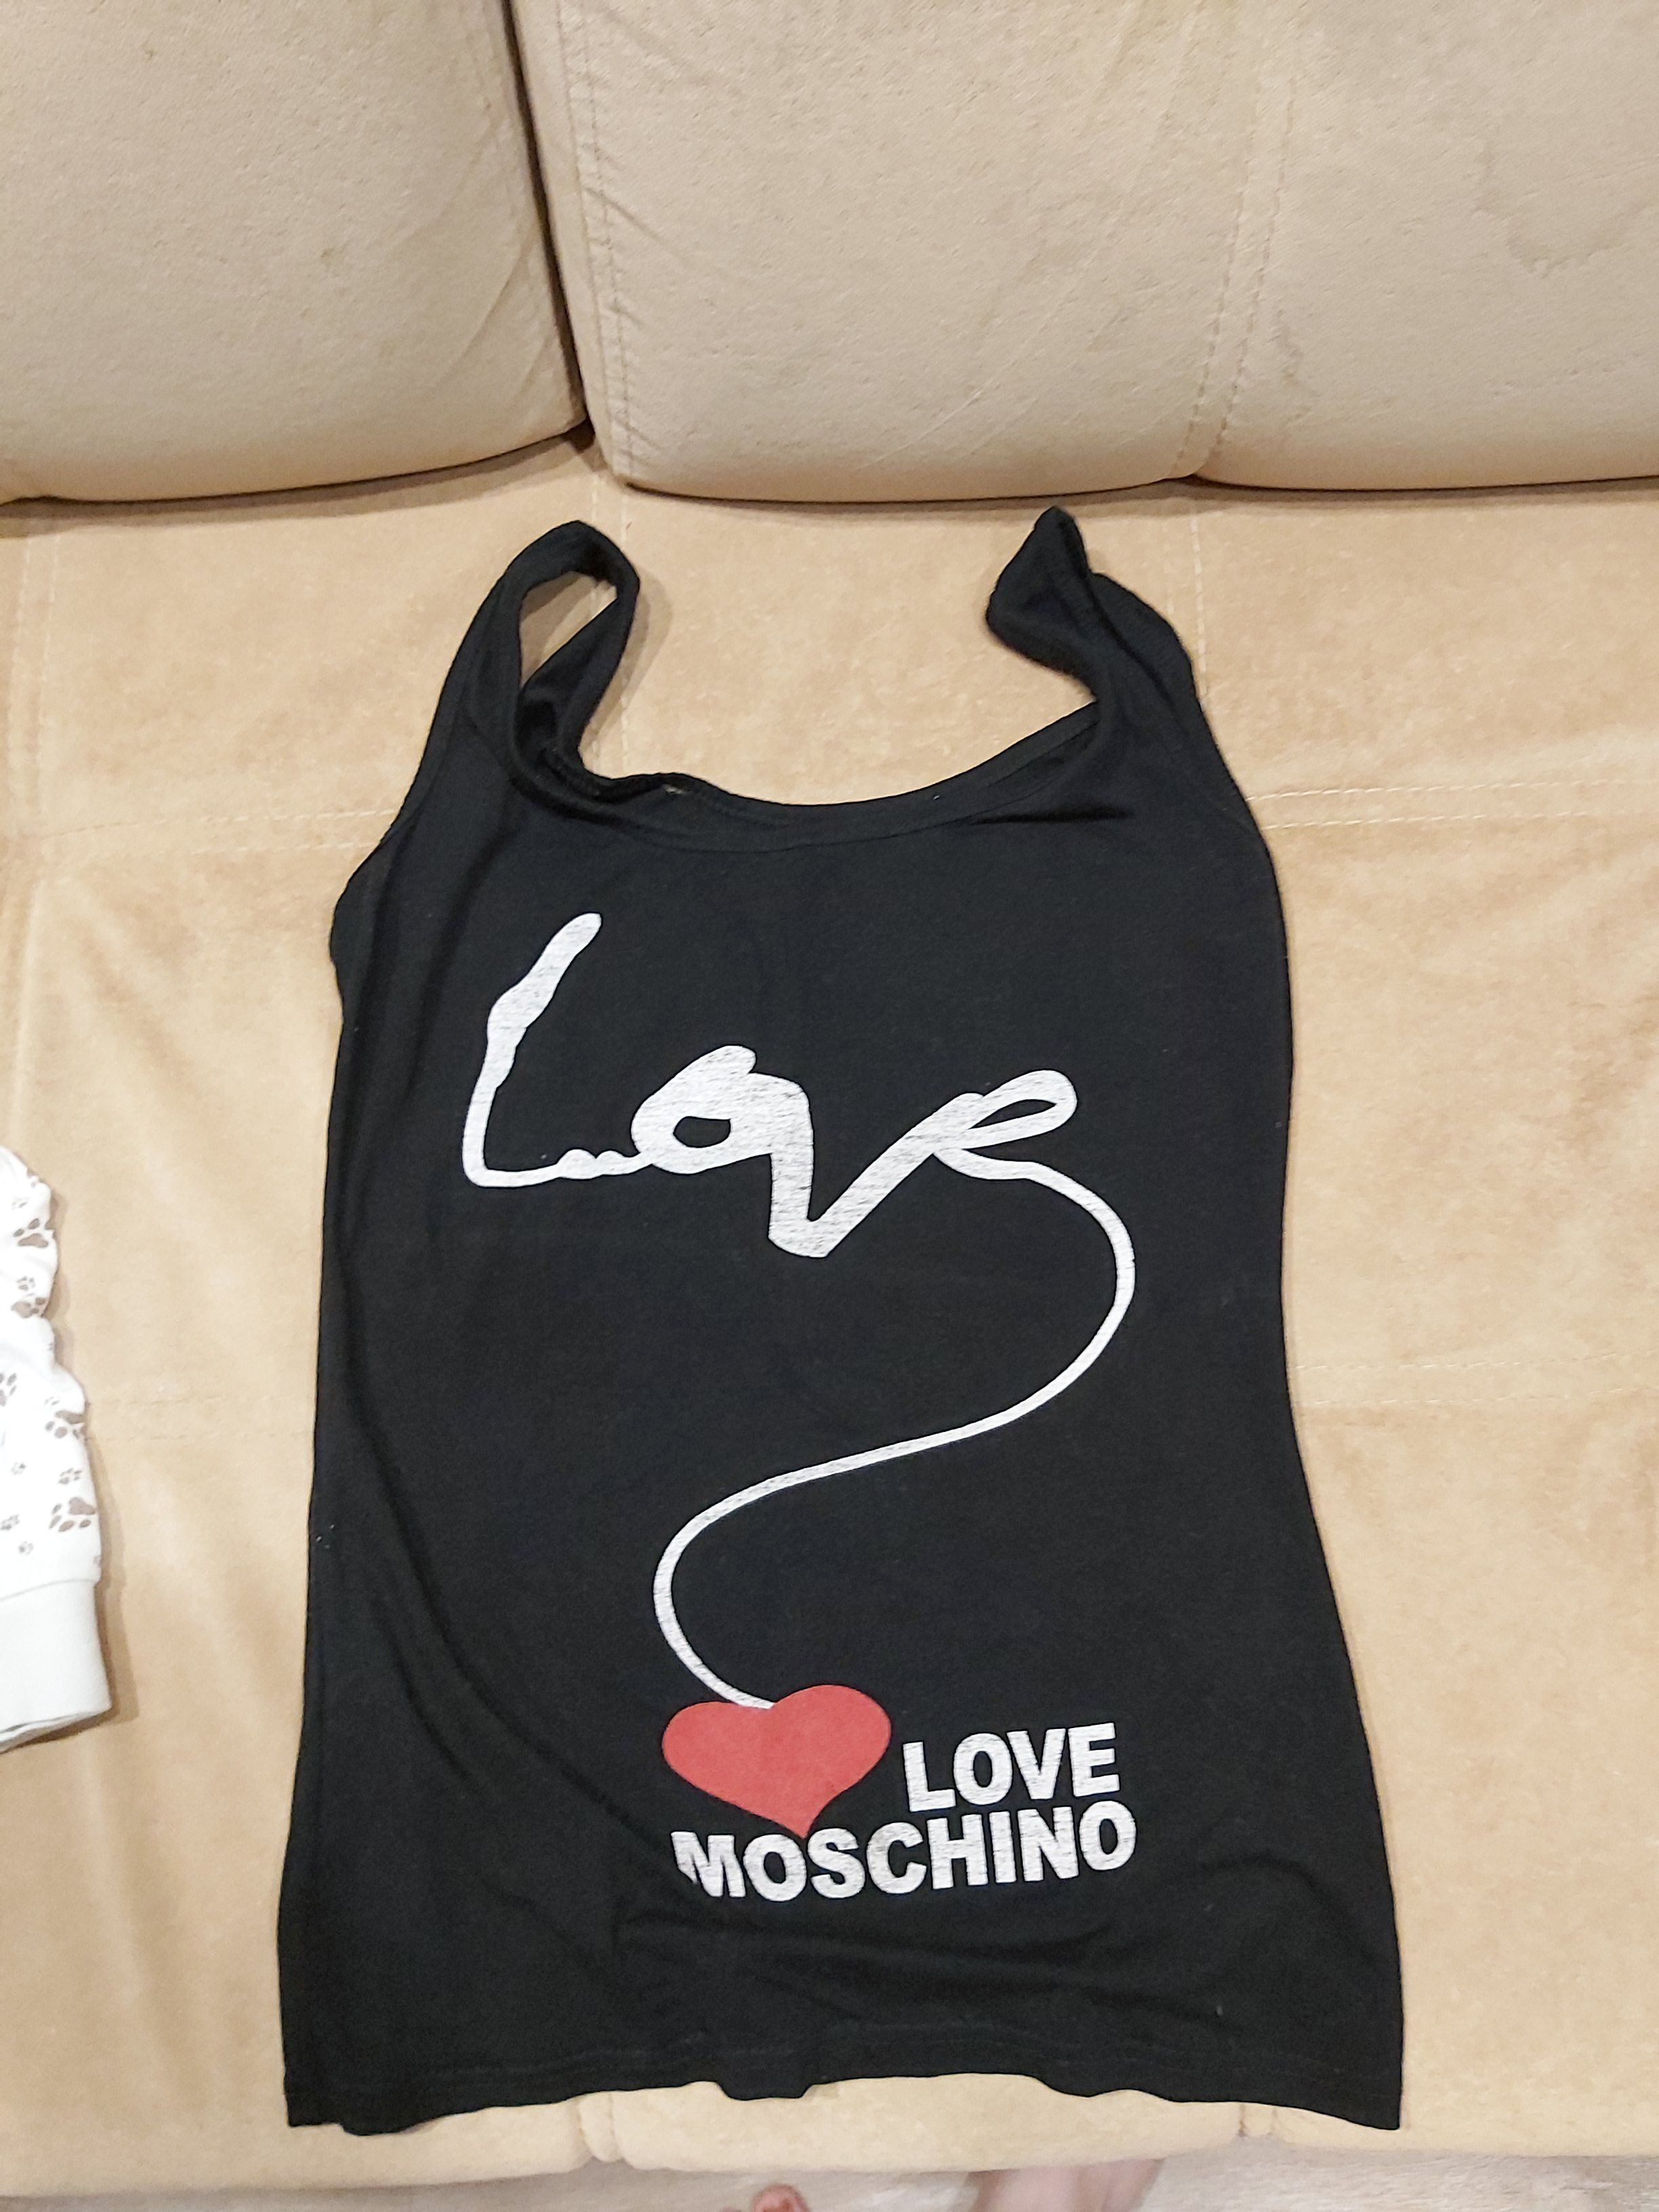clothes: (281, 484, 1431, 2149)
